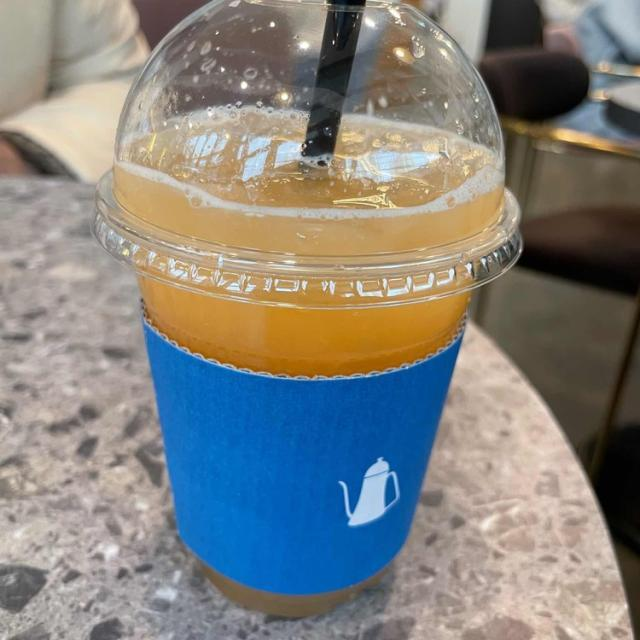bottle: (139, 276, 469, 616)
